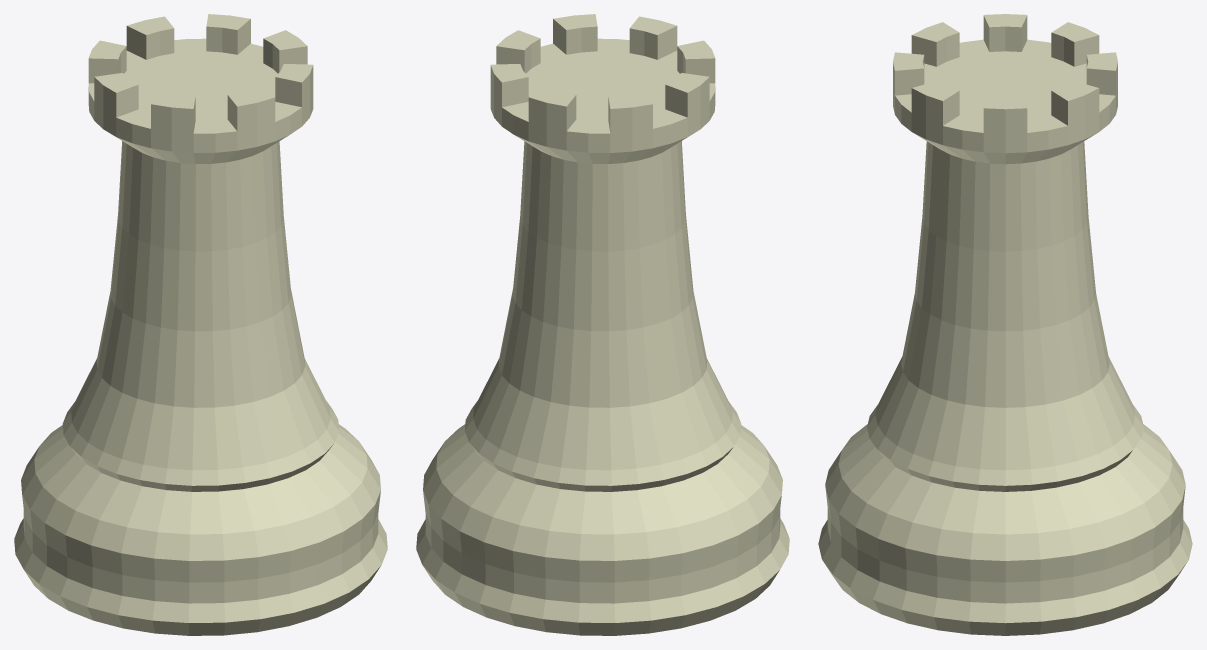
The model's file is rook.gltf.
3 views of the same model, side by side, from view 1: azimuth 30°, elevation 25°; view 2: azimuth 150°, elevation 25°; view 3: azimuth 270°, elevation 25° (orthographic).
Parts seen in each view (by area): view 1: Circle; view 2: Circle; view 3: Circle.
Boxes of the visible parts, <box> form: Circle: <box>14,14,387,635</box>; Circle: <box>416,14,789,635</box>; Circle: <box>818,14,1192,635</box>.
Size of the model in its own units: 1.76 by 2.59 by 1.76.
